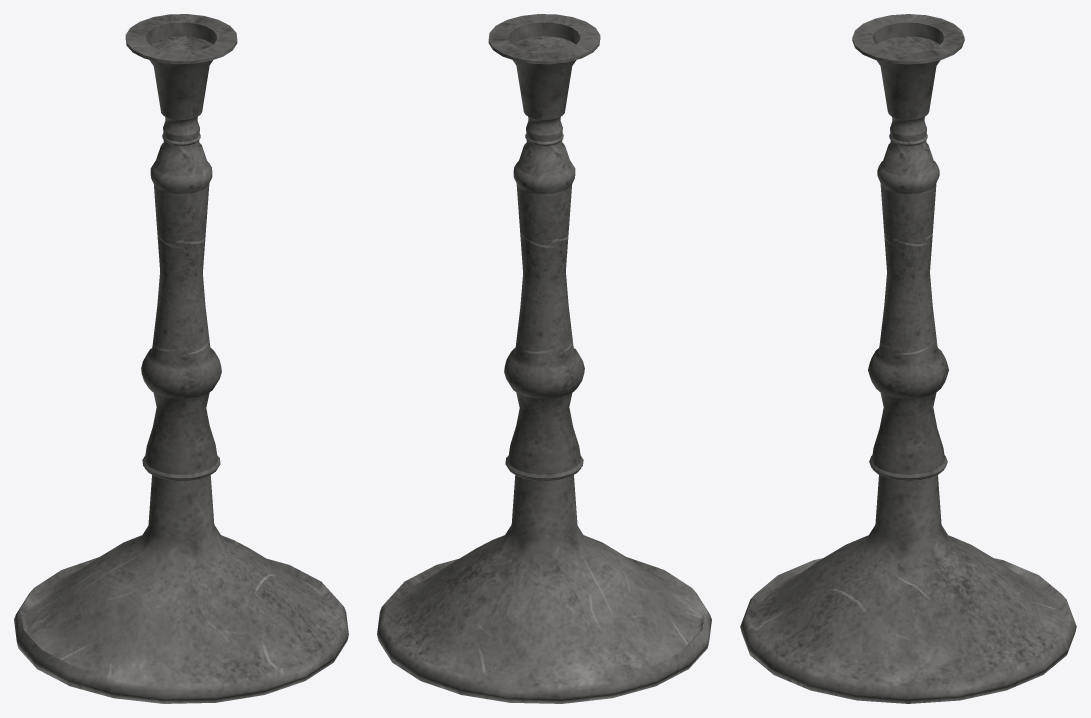
Rendered from SM_CandleStick_Iron.glb.
3 renders of one model, left to right at view 1: azimuth 30°, elevation 25°; view 2: azimuth 150°, elevation 25°; view 3: azimuth 270°, elevation 25°, orthographic.
Parts seen in each view (by area): view 1: SM_CandleStick_Iron; view 2: SM_CandleStick_Iron; view 3: SM_CandleStick_Iron.
Boxes of the visible parts, box(x1,y1,x2,y2) form: SM_CandleStick_Iron: box(14, 14, 348, 703); SM_CandleStick_Iron: box(377, 14, 711, 703); SM_CandleStick_Iron: box(740, 14, 1076, 703).
Size of the model in its own units: 0.1644 by 0.3212 by 0.1644.
Materials: 1 (1 with a texture image).
